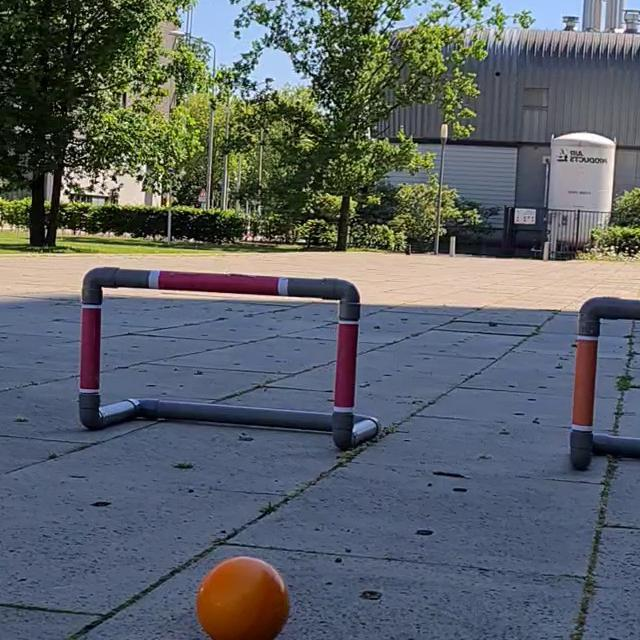ball: (192, 556, 292, 640)
